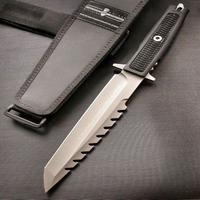knife: (41, 6, 184, 196)
